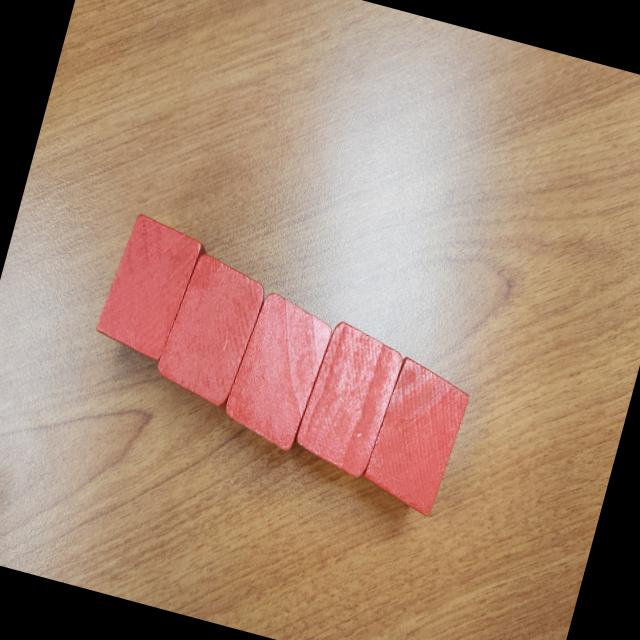red: (216, 288, 338, 458), (288, 316, 411, 482), (356, 352, 476, 519), (150, 248, 272, 412), (91, 210, 212, 366)
